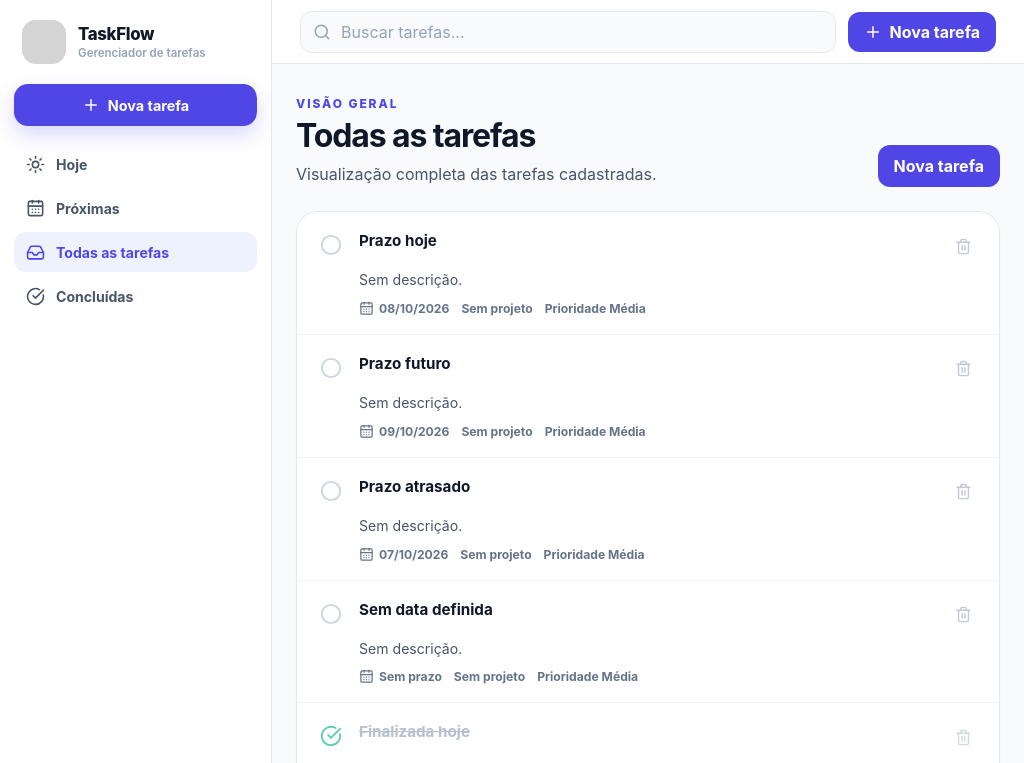
Test: Páginas de tarefas › preserva todos os registros após falha na exclusão e permite tentar novamente
This screenshot has width=1024, height=763.
Click the button named "Excluir tarefa: Prazo hoje".
click(963, 246)  # box x1=947 y1=230 x2=979 y2=262
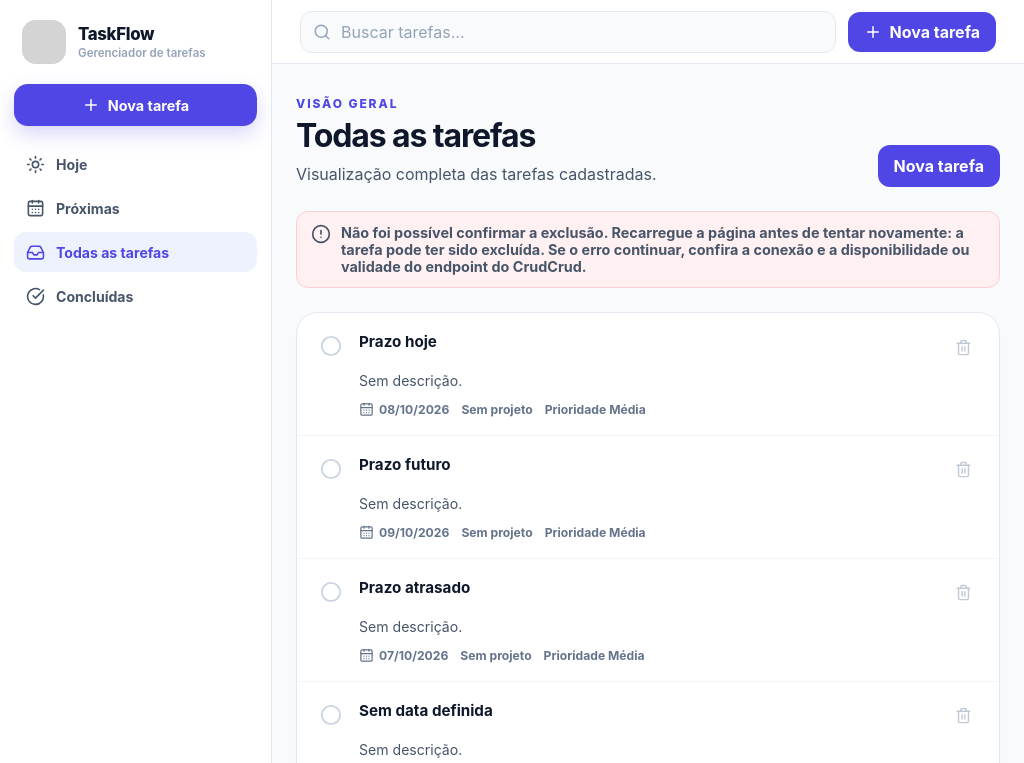
Expected: the message shows "Não foi possível confirmar a exclusão.", x1=341 y1=224 x2=970 y2=275
Click the button named "Excluir tarefa: Prazo hoje".
click(963, 347)  # box x1=947 y1=331 x2=979 y2=363
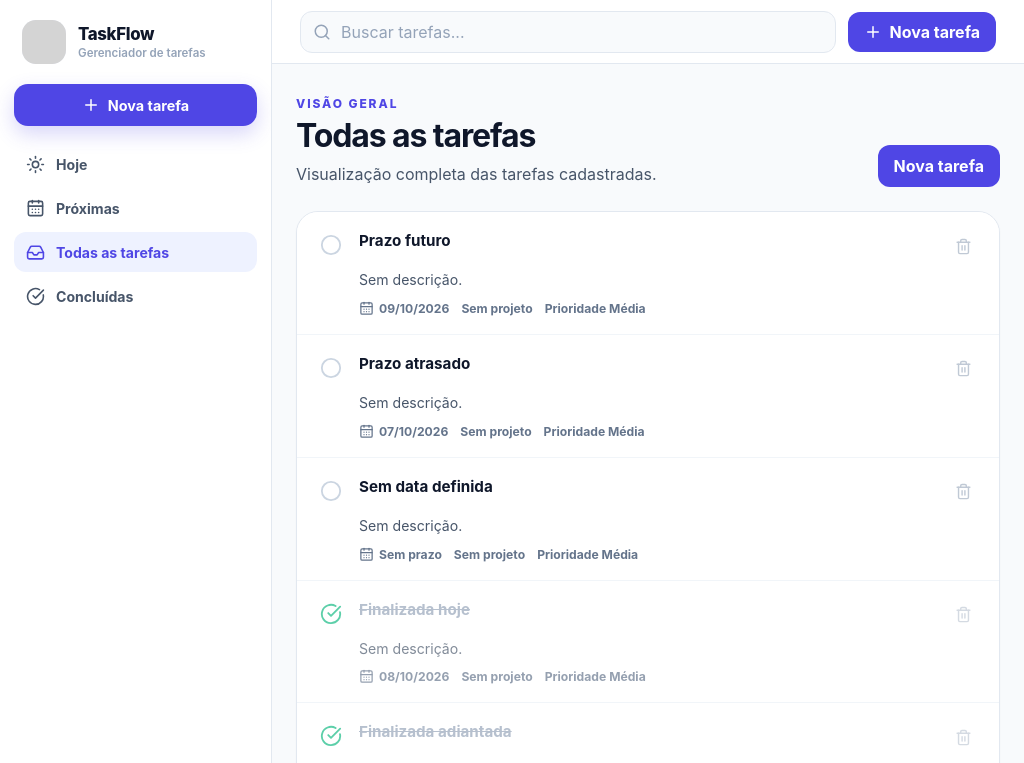
Expected: the heading "Prazo hoje" is gone
Expected: the message is gone
